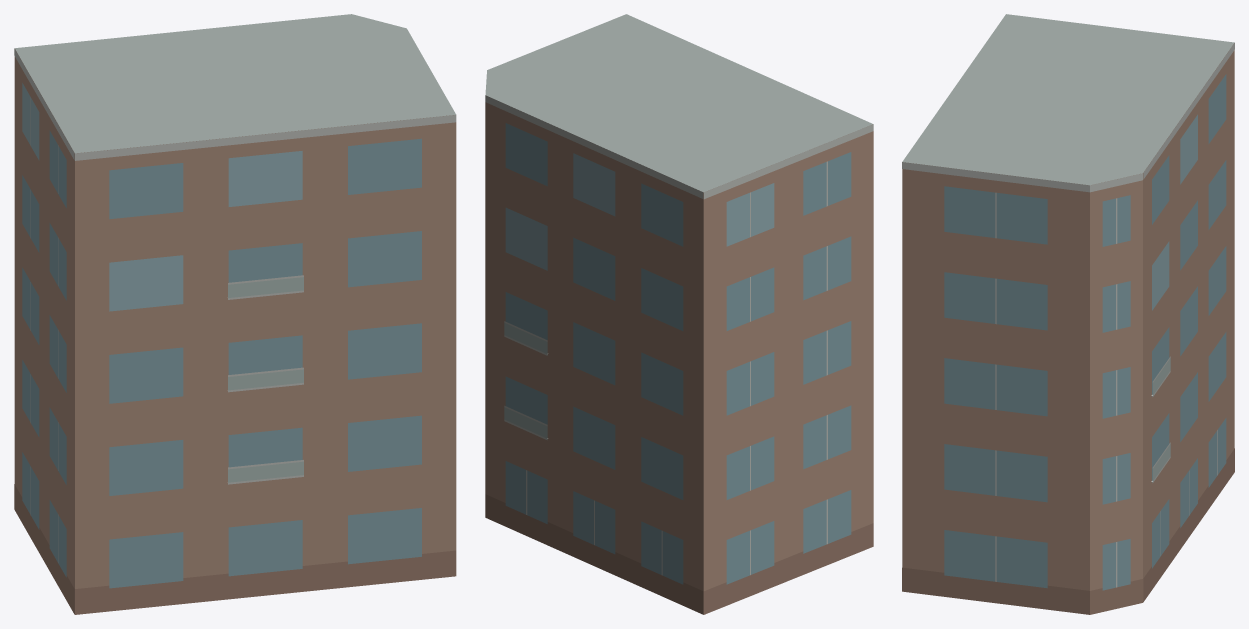
The model's file is survey-upis-32872674.glb.
The picture shows the model from 3 angles, left to right: view 1: azimuth 30°, elevation 25°; view 2: azimuth 150°, elevation 25°; view 3: azimuth 270°, elevation 25°; orthographic projection. The views are drawn at different scales.
Visible parts, largest first — view 1: survey-upis-32872674.tmp; view 2: survey-upis-32872674.tmp; view 3: survey-upis-32872674.tmp.
Boxes of the visible parts, x1,y1,x2,y2 form: survey-upis-32872674.tmp: [14, 14, 456, 614]; survey-upis-32872674.tmp: [485, 14, 873, 614]; survey-upis-32872674.tmp: [902, 14, 1234, 614].
Bounding box in the file's own units: 12.71 × 14.85 × 10.43.
